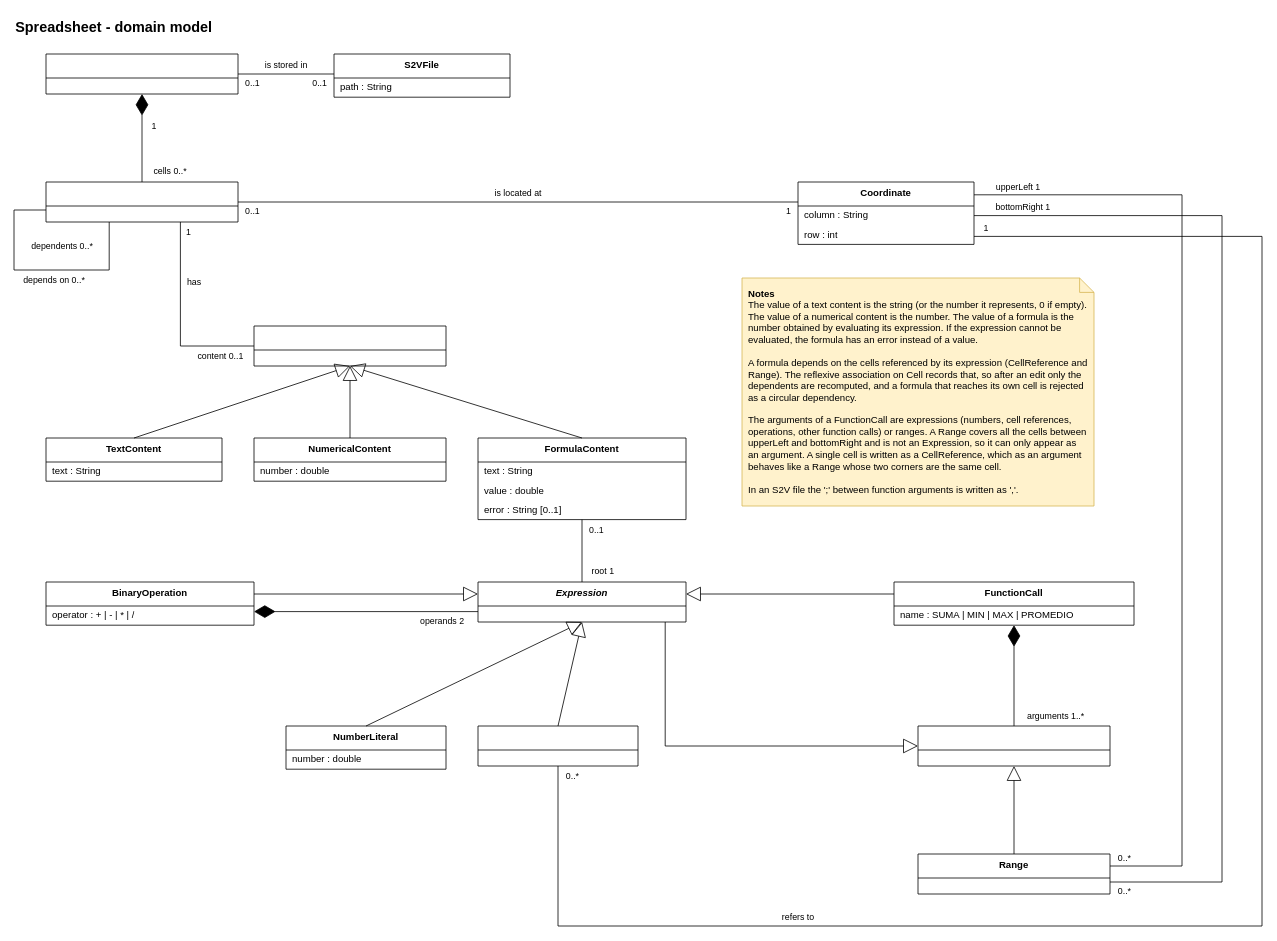
The diagram is 1277 pixels wide and 941 high, and some of its shapes have lost their labels. The centre of each missing label's shape, as x and y in pixels:
"Argument" goes at (x=1013, y=745).
"Cell" goes at (x=141, y=201).
"CellReference" goes at (x=557, y=745).
"Content" goes at (x=349, y=345).
"Spreadsheet" goes at (x=141, y=73).
